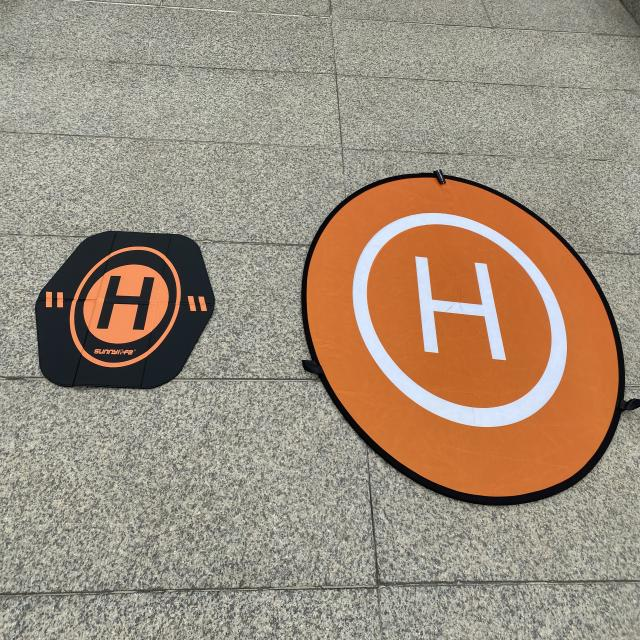helipad: (351, 210, 569, 428), (68, 245, 182, 369)
